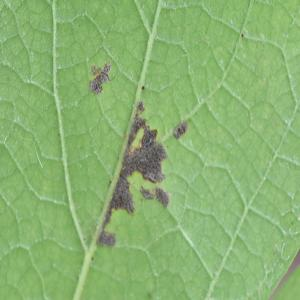Folha: (0, 0, 299, 299)
Fungo: (96, 100, 170, 246), (132, 125, 167, 183), (89, 61, 111, 94), (140, 185, 170, 208), (154, 186, 170, 208), (97, 230, 116, 246), (173, 120, 187, 139), (89, 76, 102, 94), (100, 60, 110, 82), (139, 185, 154, 199), (91, 64, 101, 78), (102, 60, 110, 74), (141, 84, 144, 89)
